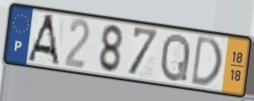2: (62, 17, 93, 71)
7: (127, 26, 160, 78)
8: (97, 23, 125, 74)
A: (25, 12, 61, 68)
D: (189, 34, 224, 88)
Q: (158, 32, 192, 84)
